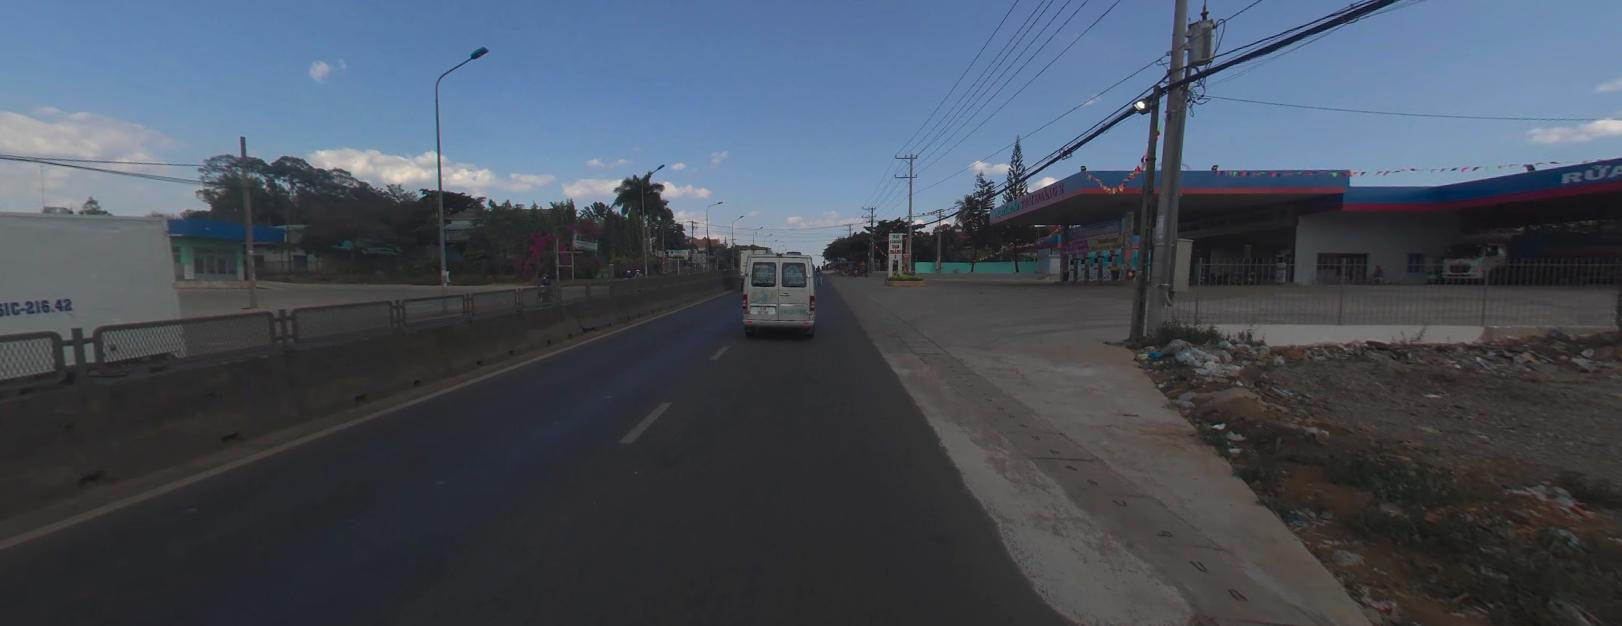Nguy hiem: (859, 258, 865, 263)
